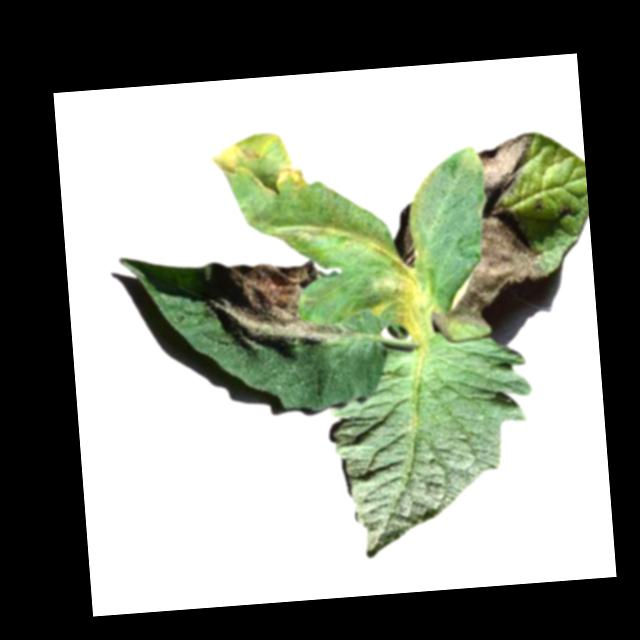Late_blight: (437, 132, 547, 327), (200, 252, 339, 356), (208, 129, 310, 202), (364, 254, 431, 331), (390, 202, 421, 271), (431, 308, 452, 339)
healthy: (325, 335, 547, 559)
